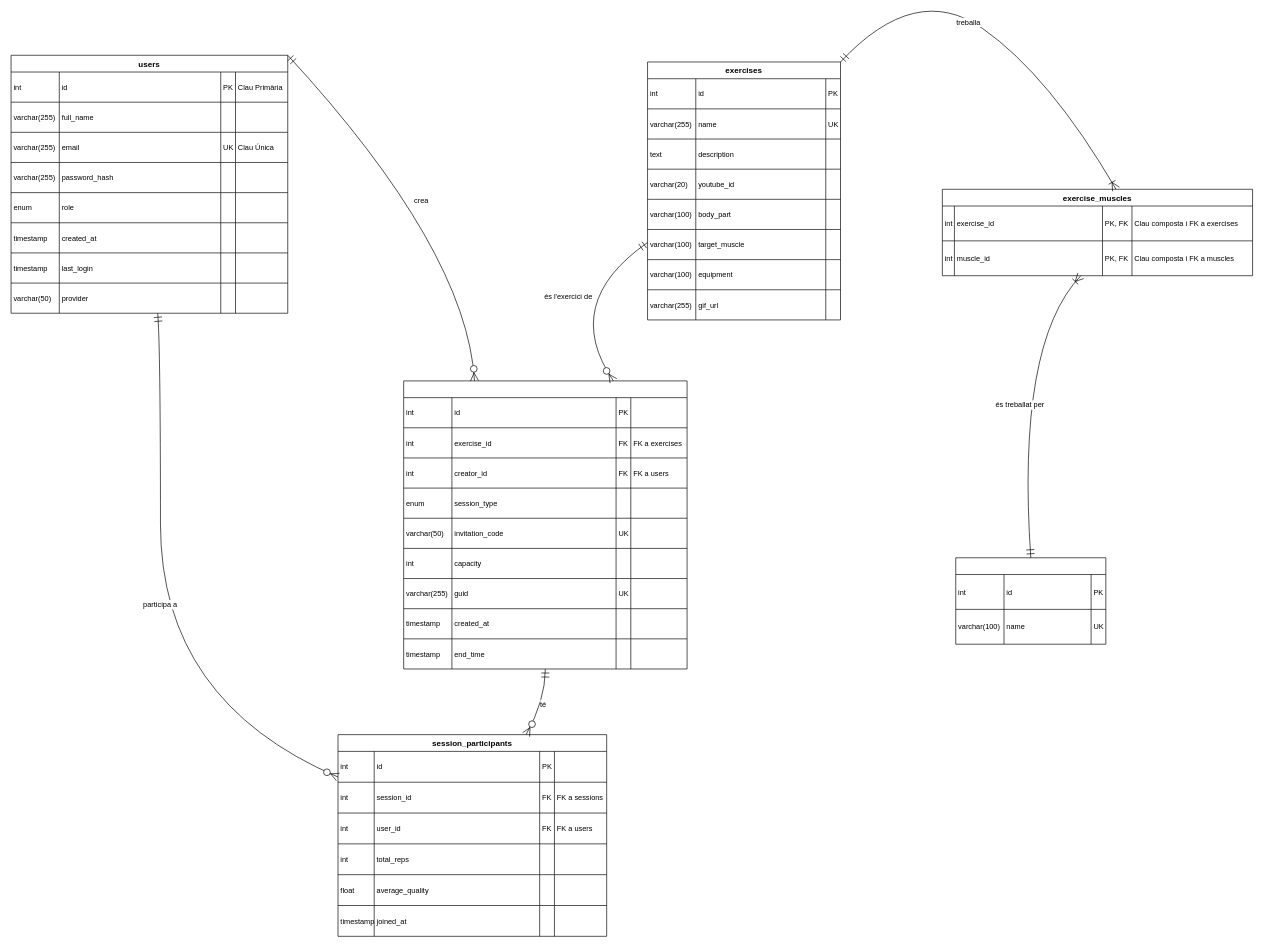
Some shapes in this 1264 by 947 pixel diagram are drawn without their labels. Here are the shapes that lost their labels. From the top down, the box of each, then its label:
(403, 380, 687, 669): sessions
(955, 557, 1106, 644): muscles
